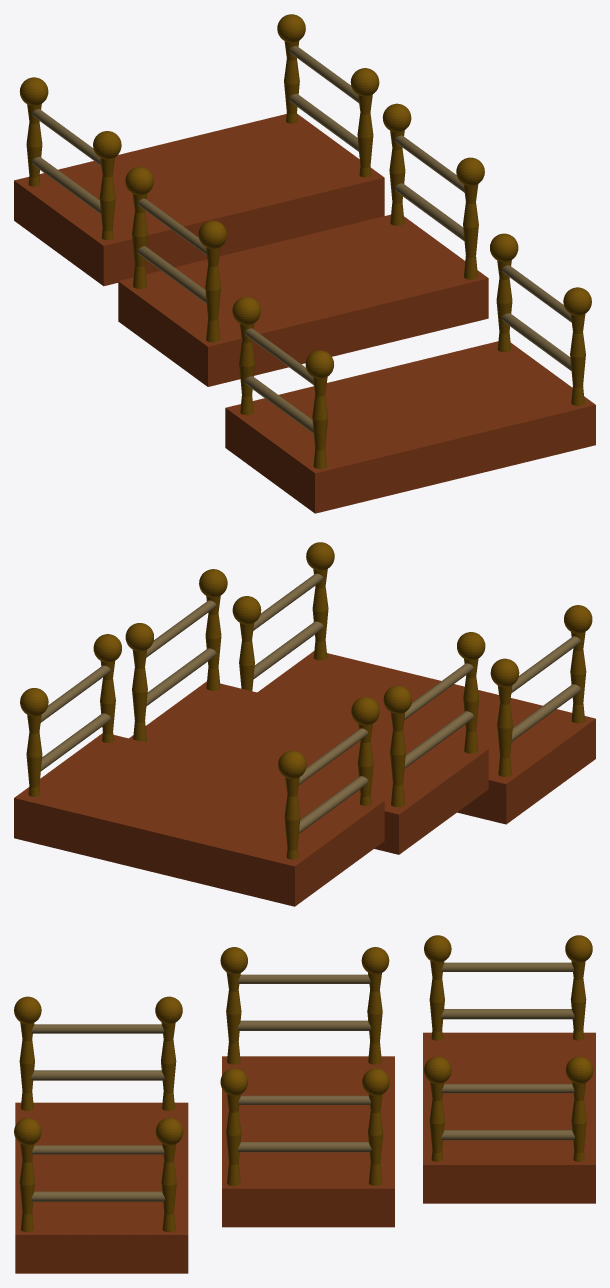
The model's file is kaidan.fbx.
The picture shows the model from 3 angles, top to bottom: view 1: azimuth 30°, elevation 25°; view 2: azimuth 150°, elevation 25°; view 3: azimuth 270°, elevation 25°; orthographic projection. The views are drawn at different scales.
Visible parts, largest first — view 1: Stage.002; view 2: Stage.002; view 3: Stage.002.
Boxes of the visible parts, box(x1,y1,x2,y2) form: Stage.002: box(14, 14, 595, 513); Stage.002: box(14, 542, 595, 906); Stage.002: box(14, 935, 595, 1273).
Size of the model in its own units: 1468 by 1083 by 2715.
